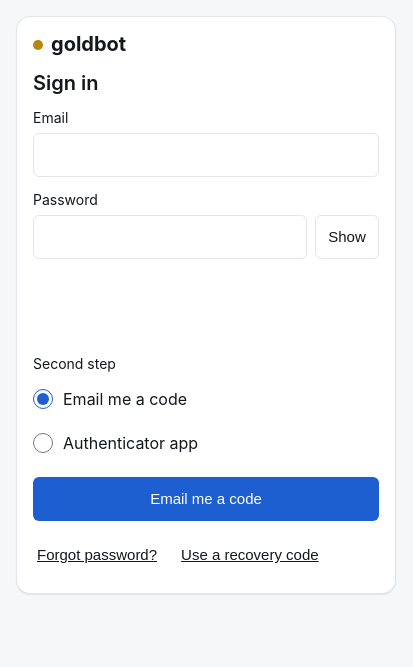
Test: Login with an emailed code › asking for a code while offline says so in words, never the browser's text
Expected: the radio button labelled "Email me a code" is shown, [33, 377, 53, 421]
Type "owner@example.com" into the field labelled "Email" at (206, 155), box [33, 133, 379, 177]
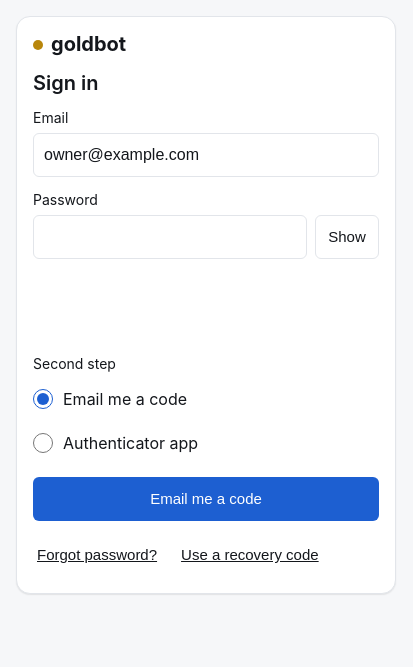
Type "owner password 123" into the password field labelled "Password" at (170, 237), box [33, 215, 307, 259]
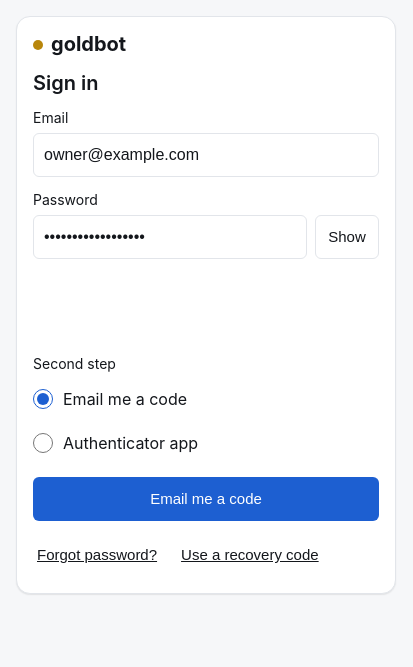
Click the button "Email me a code" at (206, 499), box [33, 477, 379, 521]
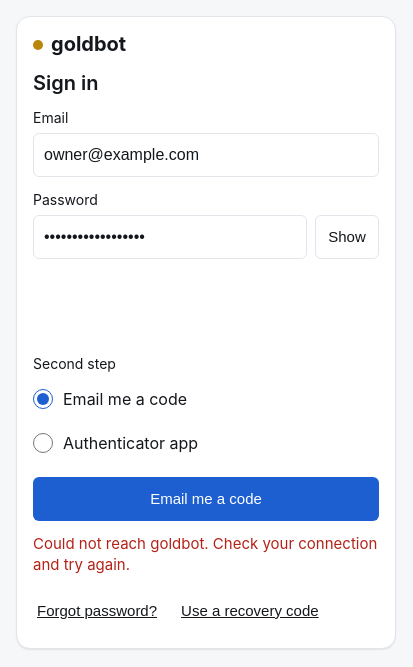
Expected: the message does not show "Failed to fetch", [33, 533, 379, 576]
Expected: the message reads "Could not reach goldbot. Check your connection and try again.", [33, 534, 377, 574]
